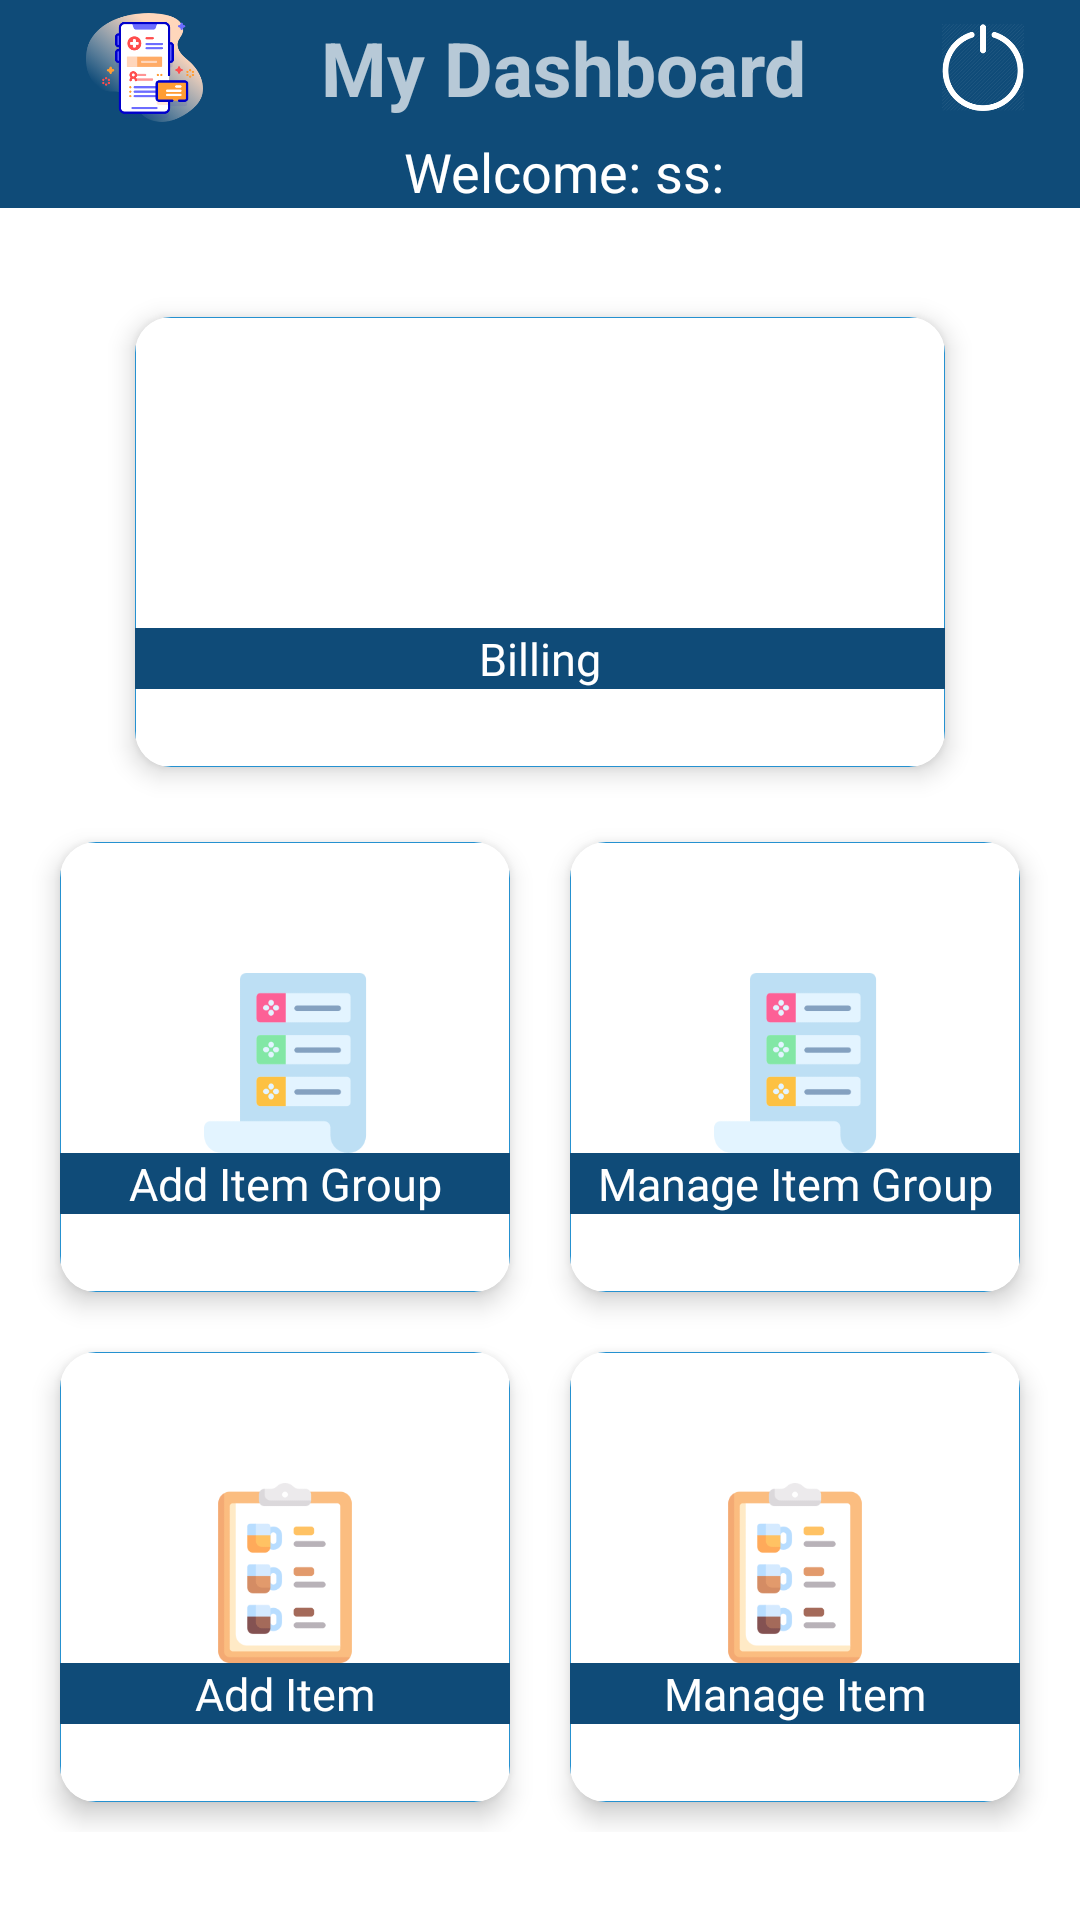

Locate icon controls on the screen. Image size 1080×1920, boxes as (x1=x1, y1=y1, x2=x2, y2=y2).
list: (x1=204, y1=973, x2=366, y2=1153), (x1=714, y1=973, x2=876, y2=1153)
menureport: (x1=86, y1=13, x2=203, y2=122)
menus: (x1=218, y1=1489, x2=352, y2=1663), (x1=728, y1=1489, x2=862, y2=1663)
